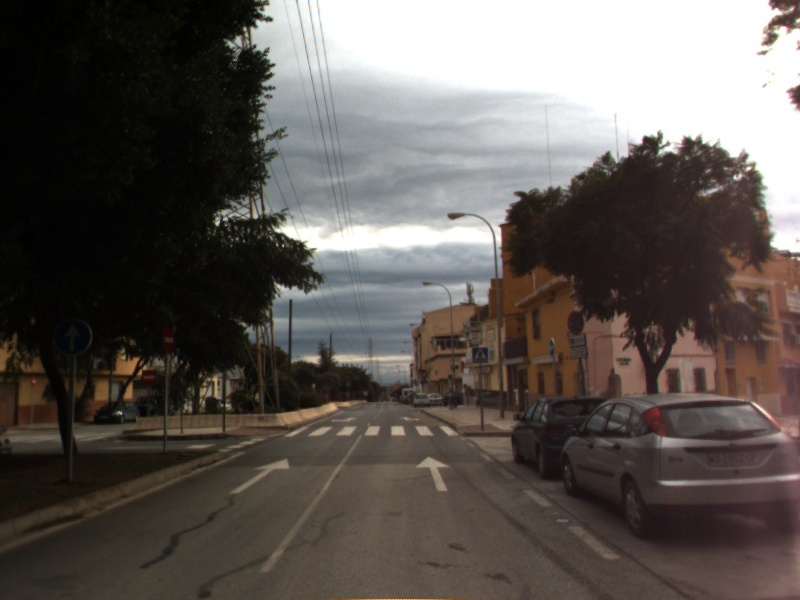STRAIGHT: (228, 456, 292, 495), (414, 454, 452, 493)
STRAIGHT_LEFT: (329, 415, 358, 424)
STRAIGHT_RIGHT: (398, 414, 424, 423)
